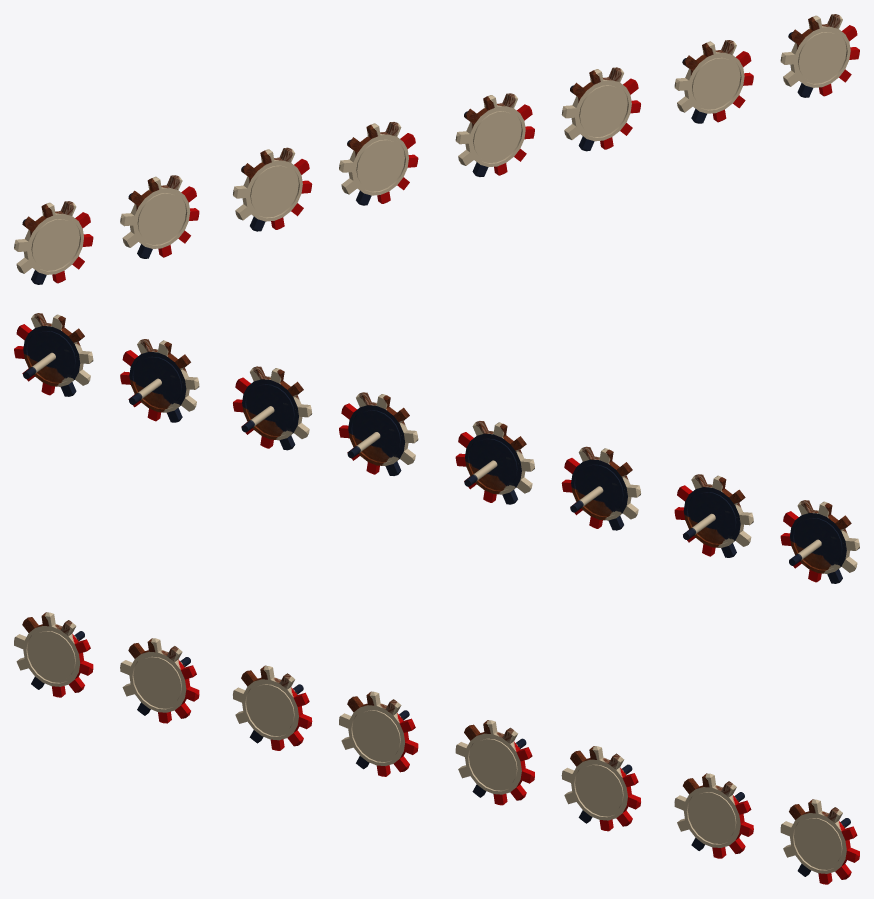
Rendered from cark.fbx.
3 views of the same model, one above another, from view 1: azimuth 30°, elevation 25°; view 2: azimuth 150°, elevation 25°; view 3: azimuth 330°, elevation 25° (orthographic).
Visible parts, largest first — view 1: pCylinder20, pCylinder23, pCylinder21, pCylinder22, pCylinder18, pCylinder19, pCylinder24, pCylinder25; view 2: pCylinder23, pCylinder20, pCylinder22, pCylinder21, pCylinder19, pCylinder24, pCylinder25, pCylinder18; view 3: pCylinder21, pCylinder22, pCylinder25, pCylinder18, pCylinder20, pCylinder23, pCylinder24, pCylinder19.
Boxes of the visible parts, bbox=[...] form: pCylinder20: bbox=[561, 67, 640, 151]; pCylinder23: bbox=[233, 147, 312, 231]; pCylinder21: bbox=[455, 93, 534, 176]; pCylinder22: bbox=[339, 122, 418, 205]; pCylinder18: bbox=[780, 14, 859, 97]; pCylinder19: bbox=[674, 40, 753, 123]; pCylinder24: bbox=[120, 175, 199, 258]; pCylinder25: bbox=[14, 201, 93, 284]; pCylinder23: bbox=[561, 446, 640, 530]; pCylinder20: bbox=[233, 366, 312, 450]; pCylinder22: bbox=[455, 421, 534, 504]; pCylinder21: bbox=[339, 392, 418, 475]; pCylinder19: bbox=[120, 339, 199, 422]; pCylinder24: bbox=[674, 474, 753, 557]; pCylinder25: bbox=[780, 500, 859, 583]; pCylinder18: bbox=[14, 313, 93, 396]; pCylinder21: bbox=[455, 720, 534, 805]; pCylinder22: bbox=[339, 691, 418, 776]; pCylinder25: bbox=[14, 612, 93, 697]; pCylinder18: bbox=[780, 799, 859, 884]; pCylinder20: bbox=[561, 746, 640, 831]; pCylinder23: bbox=[233, 665, 312, 750]; pCylinder24: bbox=[120, 638, 199, 723]; pCylinder19: bbox=[674, 773, 753, 858].
Size of the model in its own units: 35.03 by 3.25 by 2.15.
